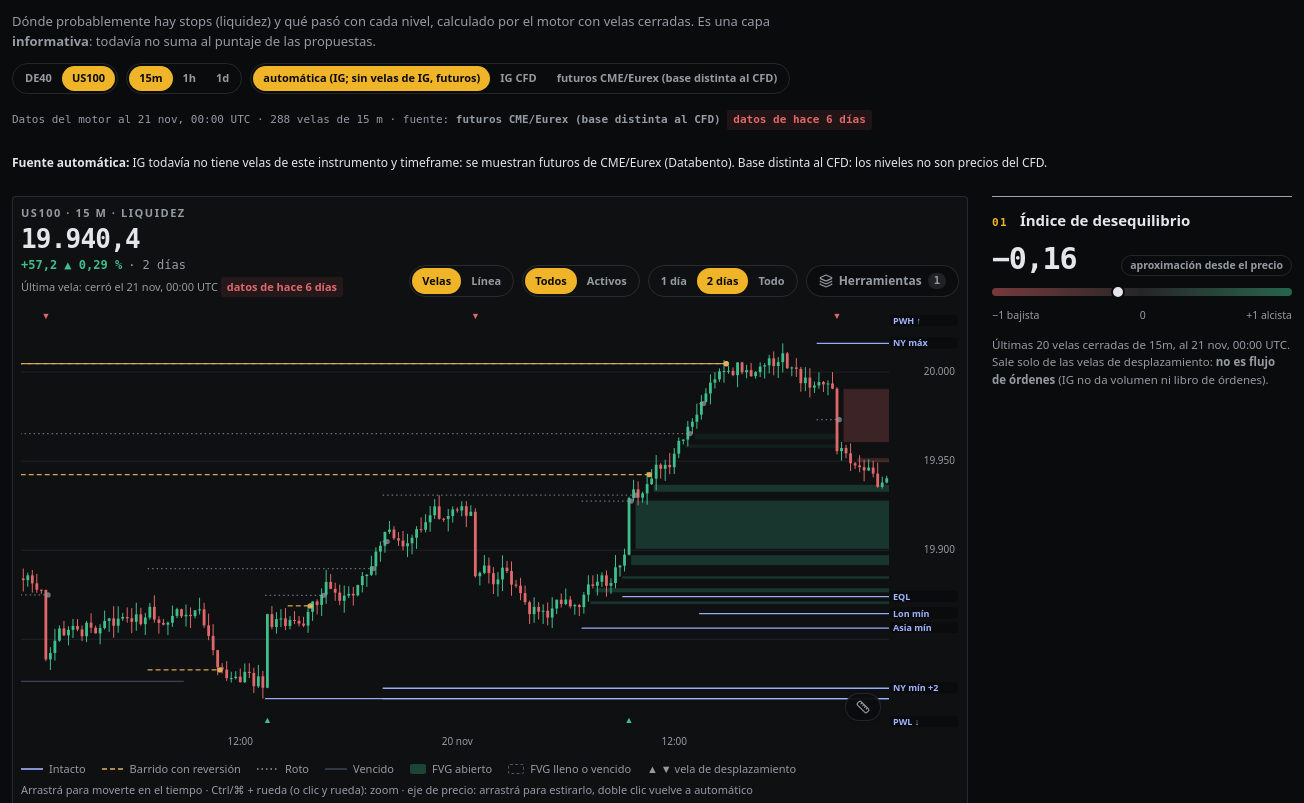
Test: vista de liquidez en vivo (#231) › abre en automática: si IG no tiene velas muestra futuros, dice por qué y se puede elegir a mano (#628)
Check: the text "futuros CME/Eurex (base distinta al CFD)" is shown, box [456,112,721,126]
Note: a mano, IG: sin reemplazo ni motivo
Click the button "IG CFD": (518, 78) [490,66,547,90]
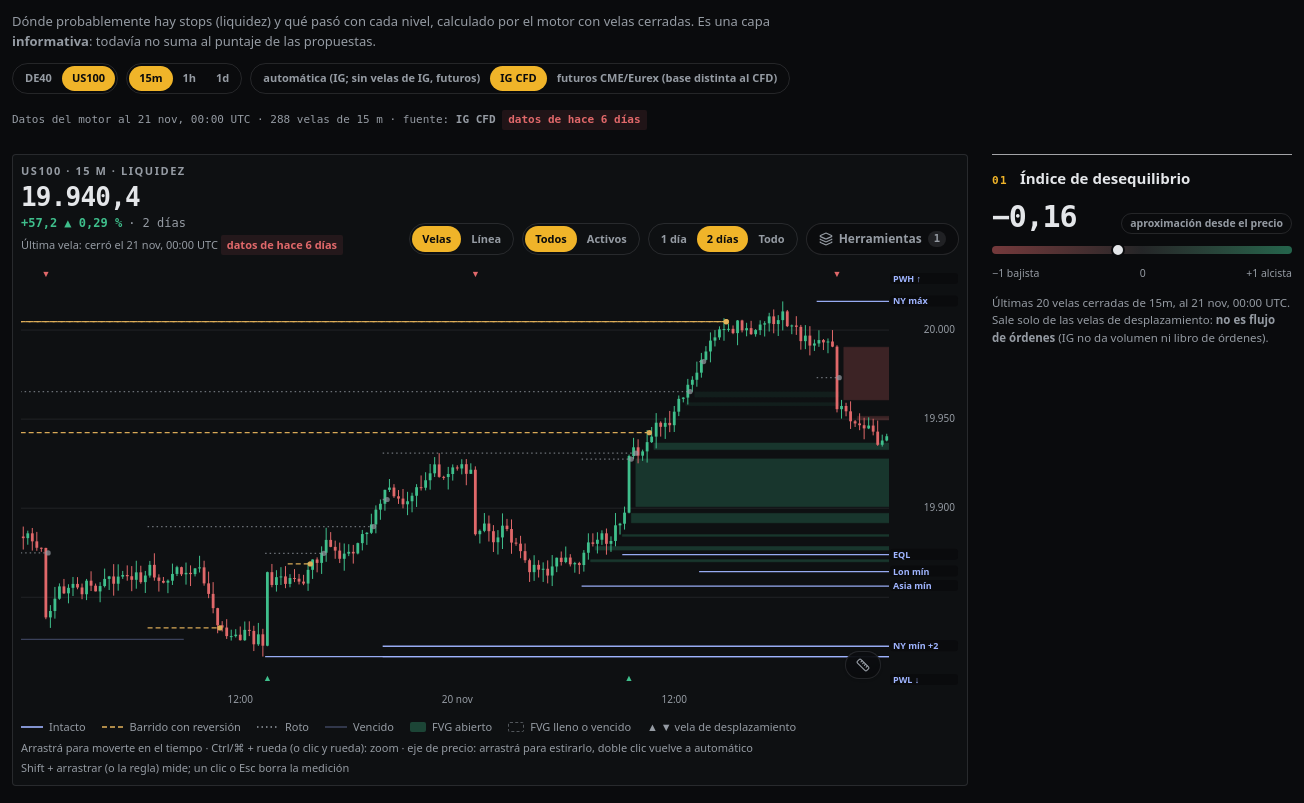
Check: the text "IG CFD" is shown, box [456,112,496,126]
